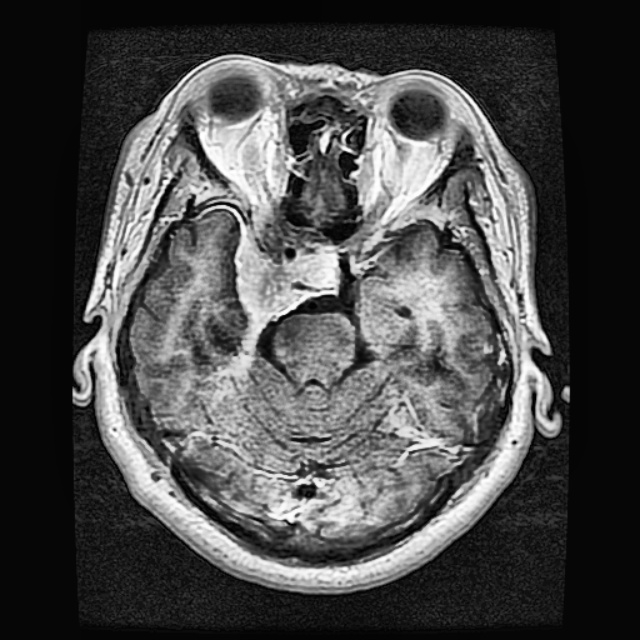Pituitary: (233, 228, 340, 362)
